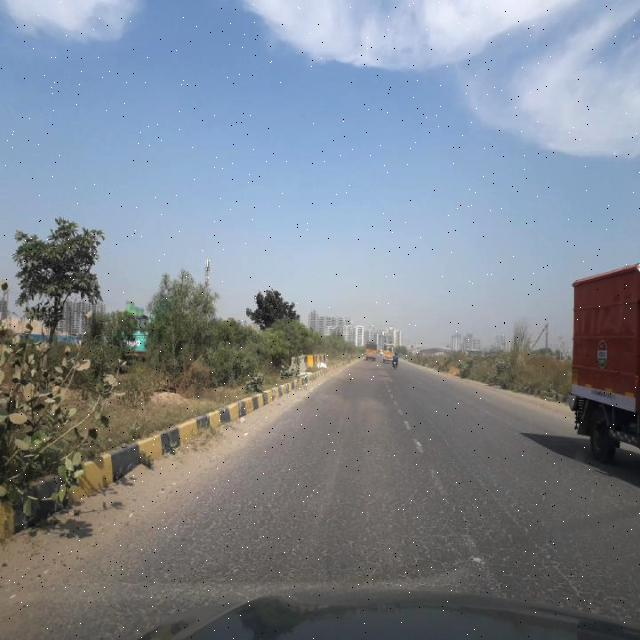D00: (446, 442, 586, 602)
D20: (109, 444, 639, 585)
D44: (412, 438, 504, 600)
